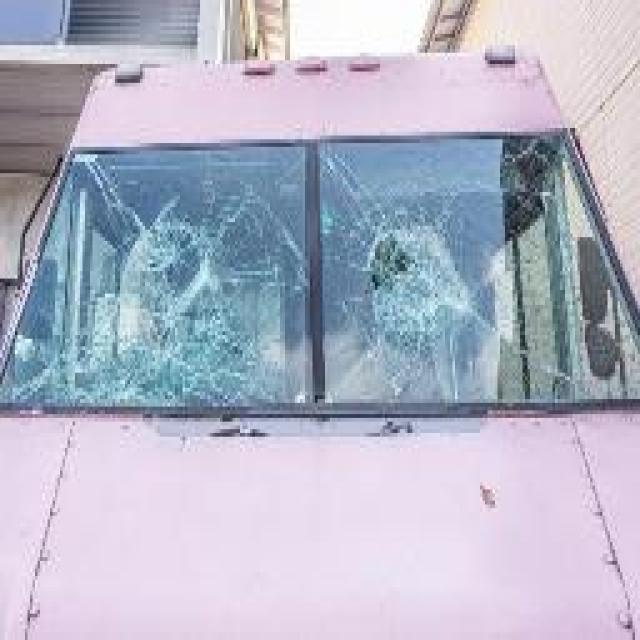Windshield: (0, 138, 640, 402)
